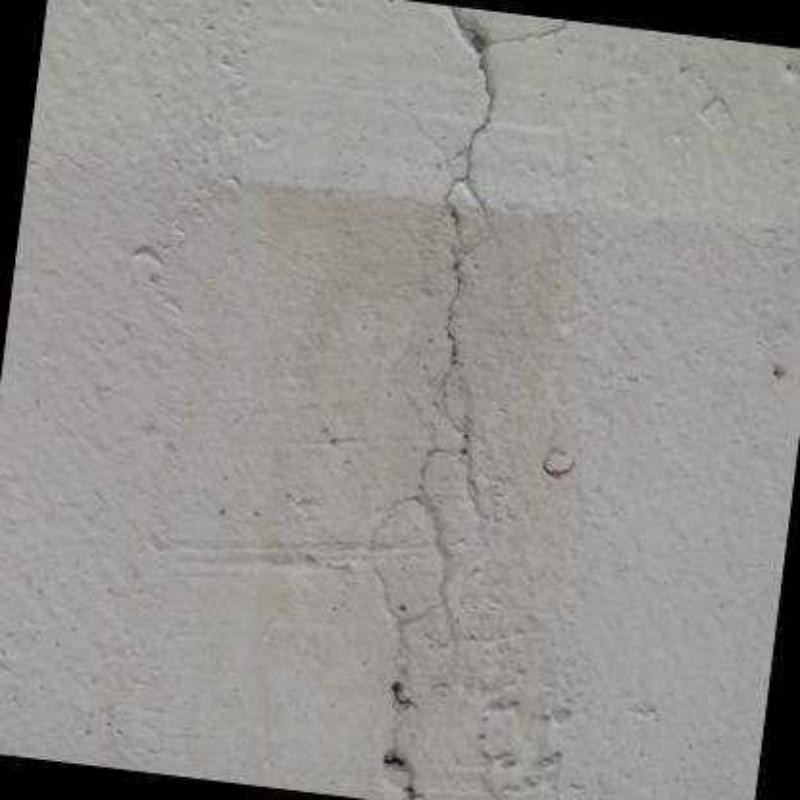pothole: (365, 5, 571, 798), (377, 504, 441, 603)
